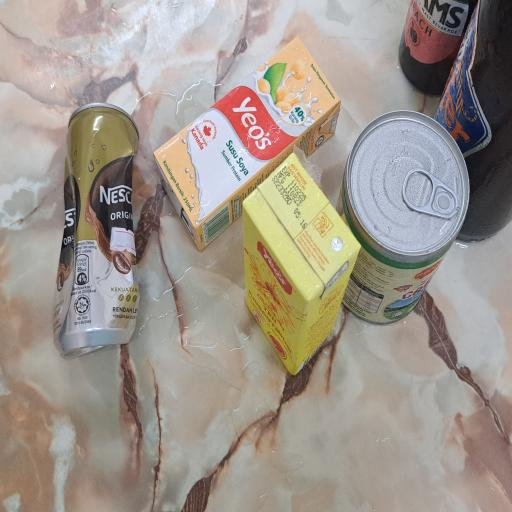can: (114, 66, 311, 188), (141, 446, 297, 512)
drink carton: (189, 201, 360, 452), (100, 323, 267, 479)
